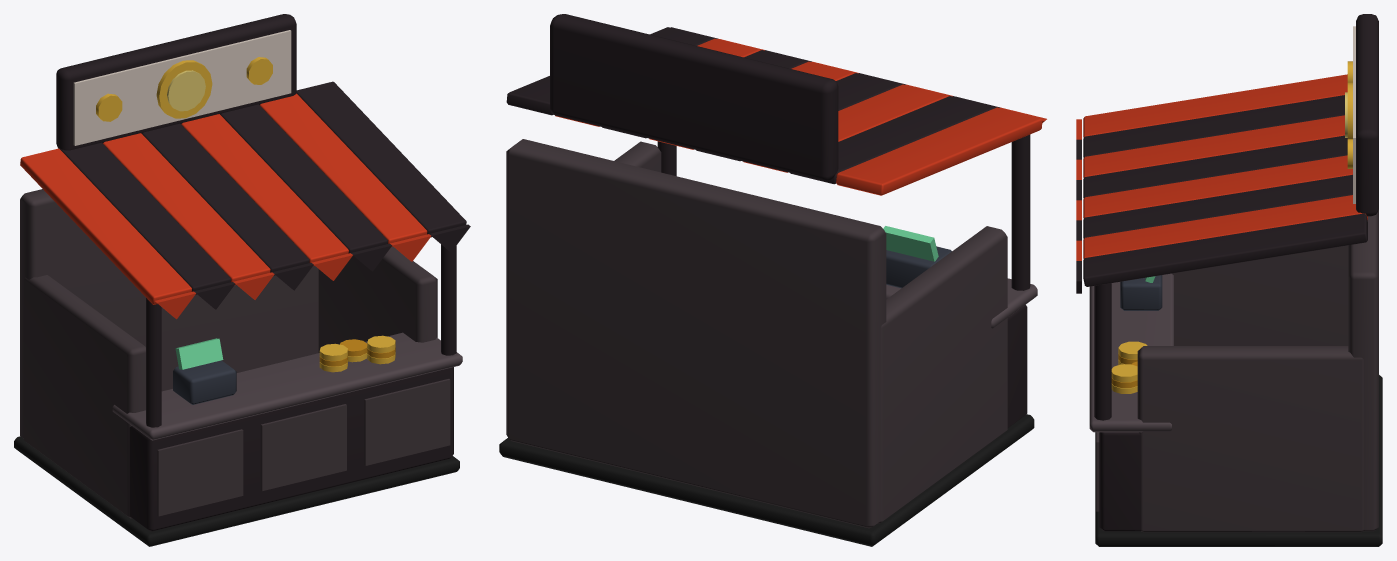
Rendered from candy-shop.glb.
3 renders of one model, left to right at view 1: azimuth 30°, elevation 25°; view 2: azimuth 150°, elevation 25°; view 3: azimuth 270°, elevation 25°, orthographic. The views are drawn at different scales.
Visible parts, largest first — view 1: candy-shop; view 2: candy-shop; view 3: candy-shop.
Boxes of the visible parts, x1,y1,x2,y2 form: candy-shop: (14, 14, 470, 546); candy-shop: (499, 14, 1046, 546); candy-shop: (1076, 14, 1382, 546).
Bounding box in the file's own units: 2 × 2.28 × 1.6.
